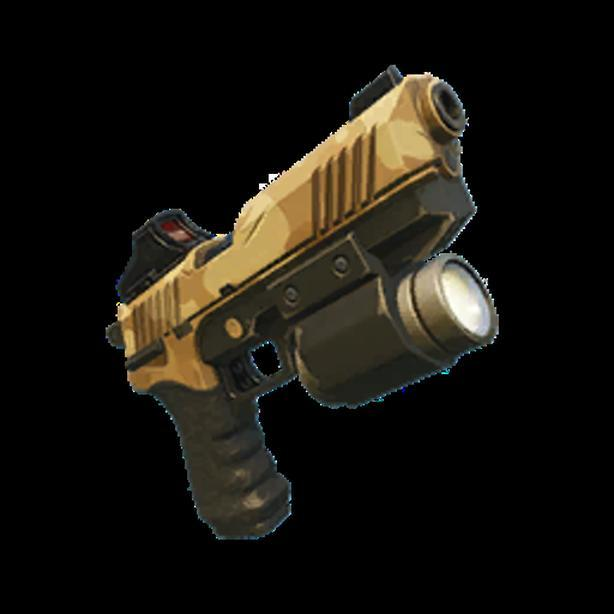Firearm: (87, 56, 500, 551)
